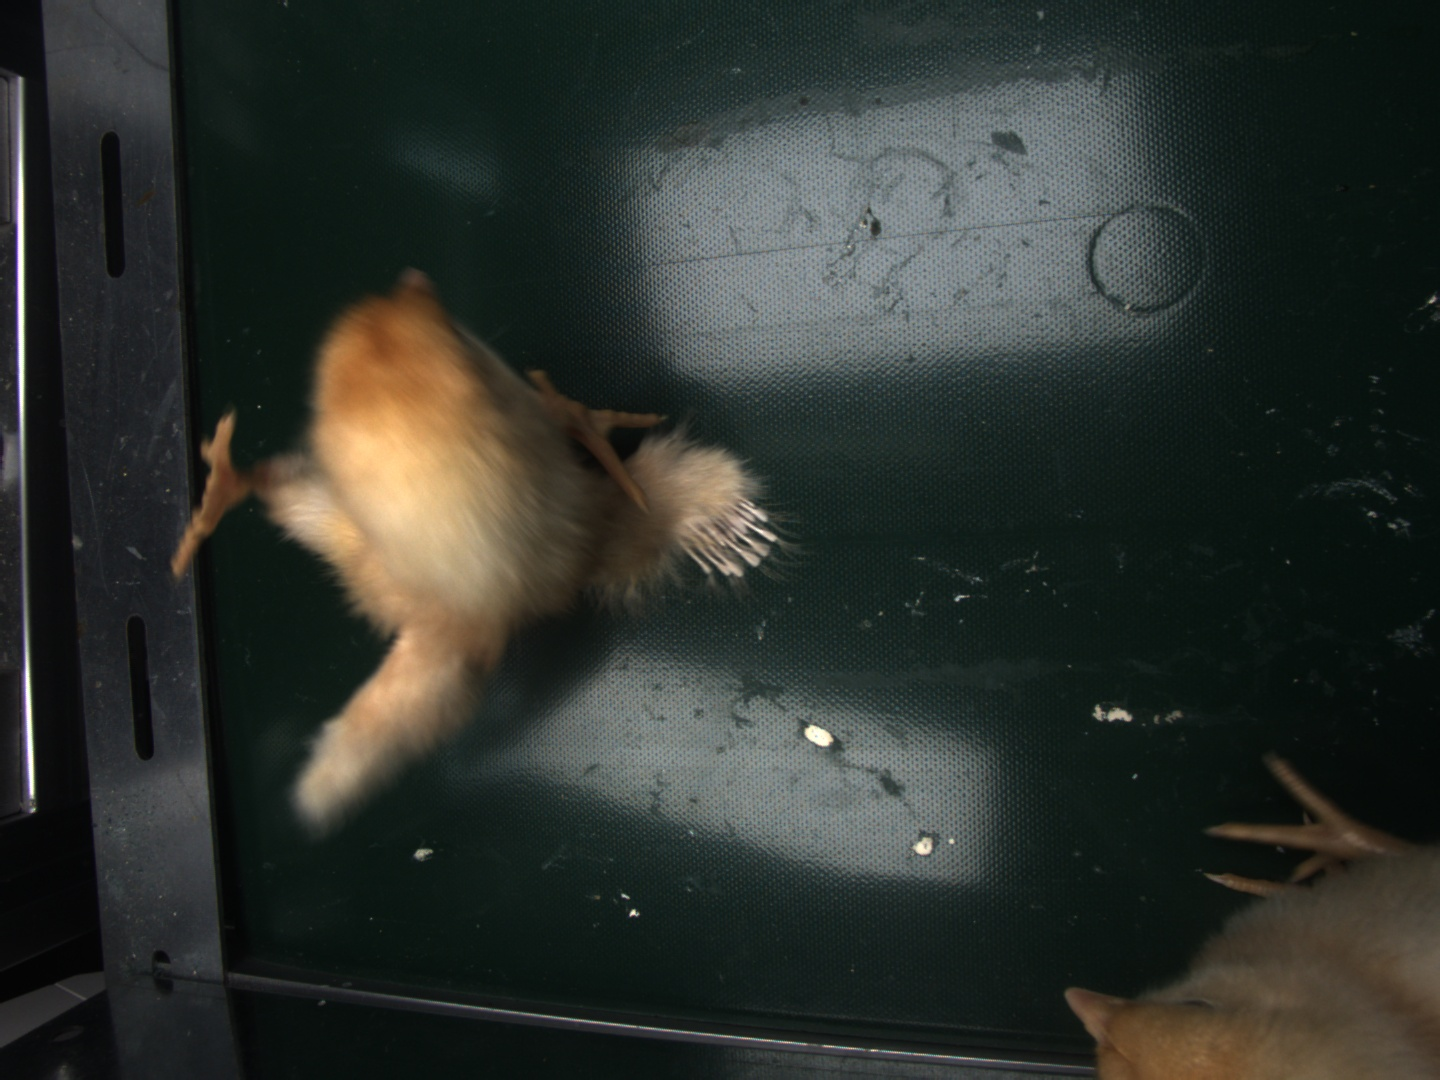female: (687, 496, 776, 575)
